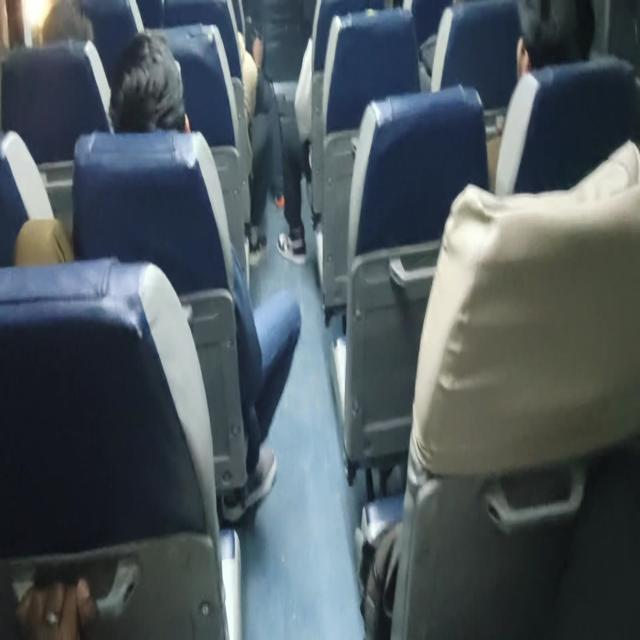person: (120, 38, 201, 131), (508, 0, 599, 71), (28, 4, 102, 62)
